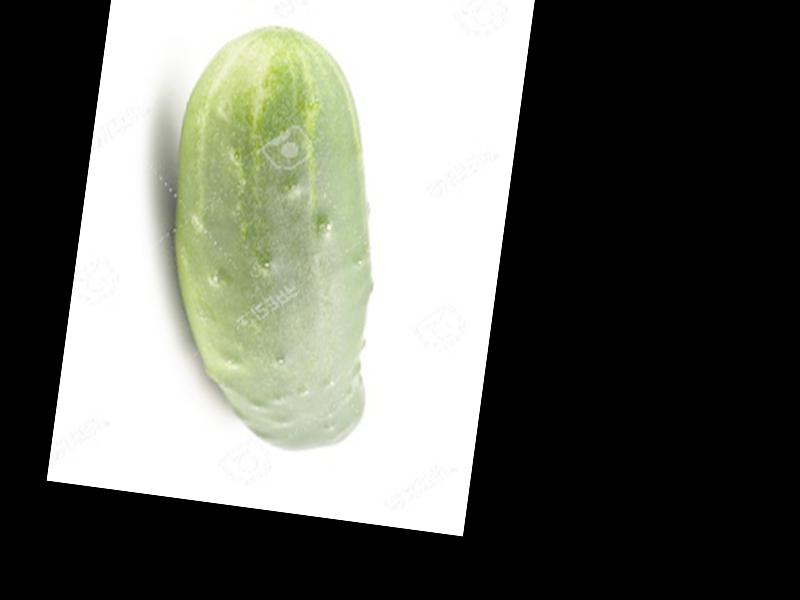Cucumber: (138, 14, 412, 459)
